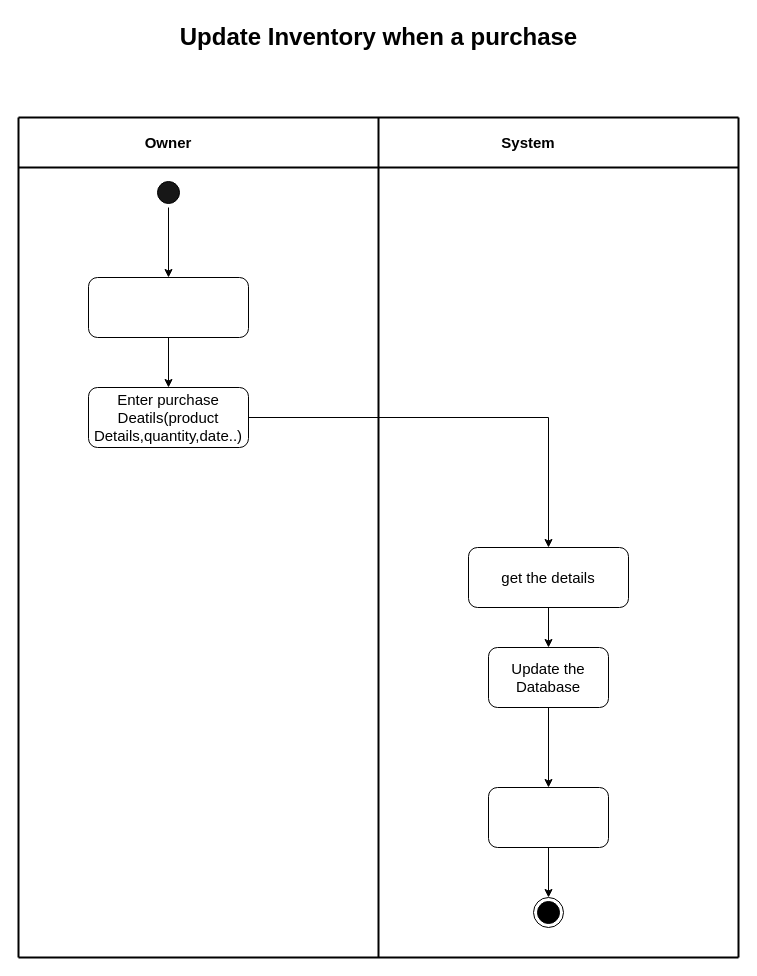
Some shapes in this 757 by 976 pixel diagram are drawn without their labels. The shapes that lost their labels are listed below. From the top down, each one's centre as x and y in pixels, then its label:
At (x=168, y=307): "New Purchase for spareparts Done".
At (x=548, y=817): "Prompt task successfull message".
